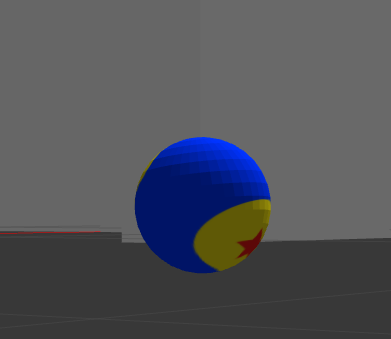toy story ball: (135, 137, 272, 273)
